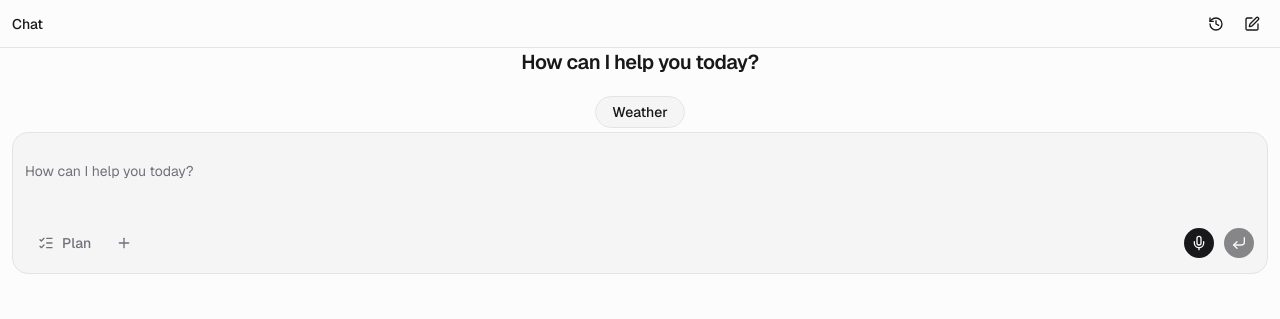
Test: ChatPanel — the parts that keep a run moving › shows the server's reason when it refuses a message
The image size is (1280, 319).
What coordinates should you click on to do the following:
click the button "Weather"
I would click on:
 (640, 112)
Its box is left=595, top=96, right=685, bottom=128.
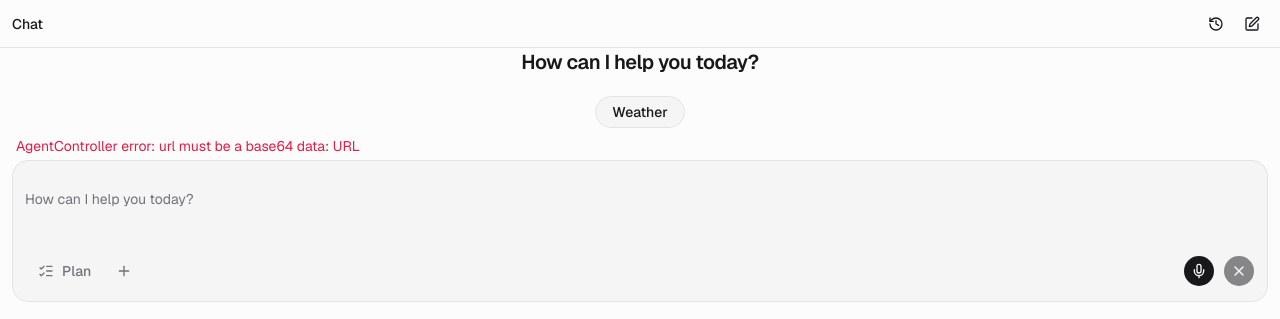
Now the message reads "AgentController error: url must be a base64 data: URL", box left=16, top=137, right=360, bottom=155
